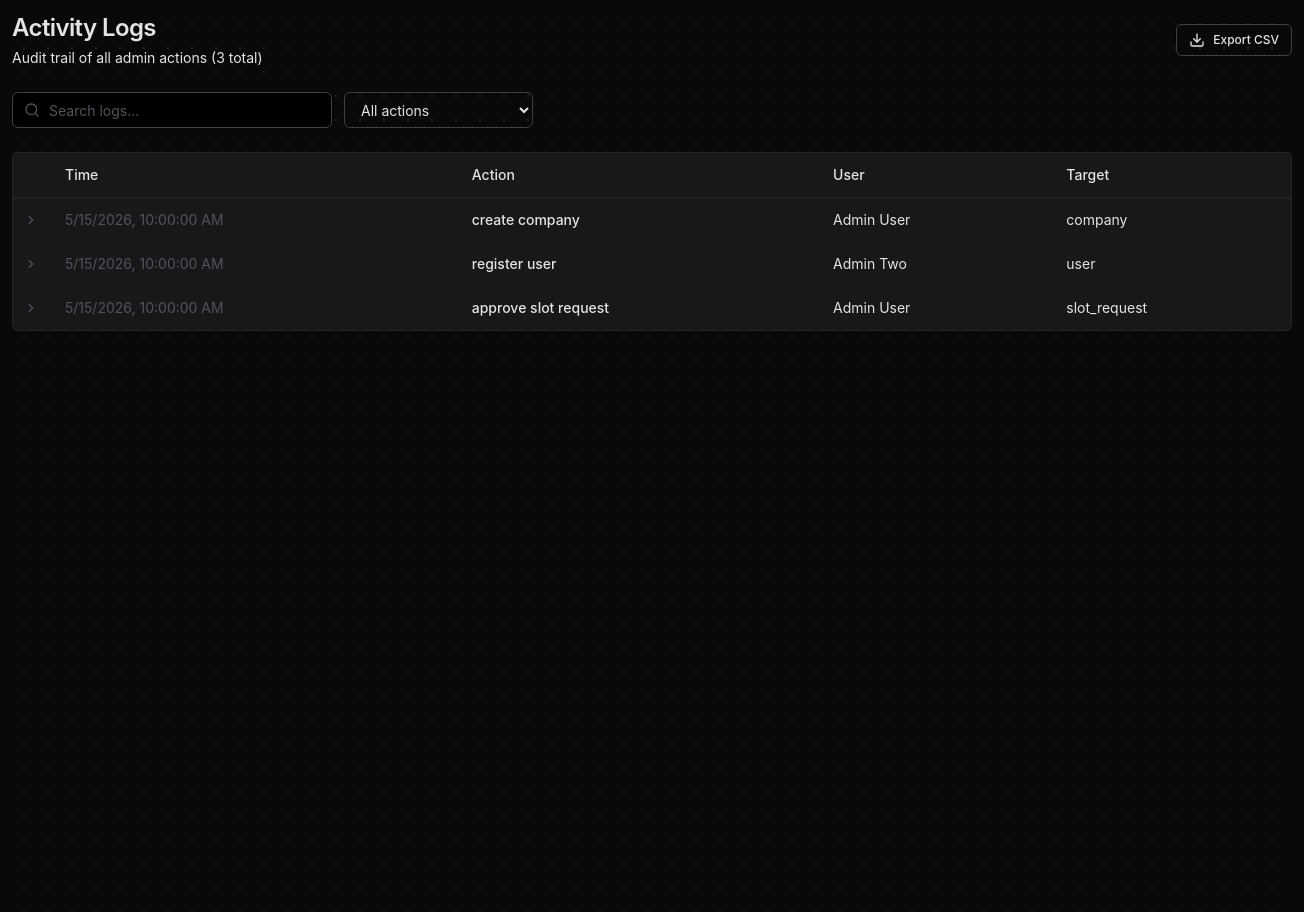
Test: AdminLogs › T-M3-3.D.2 - Detail expansion and CSV export › expand button toggles detail row for an entry
The image size is (1304, 912).
expect the text "create company" is shown: met, box [472,211,580,228]
Click the button named "expand log details" in the row of "create company". click: (31, 220)
box: [21,210,41,230]
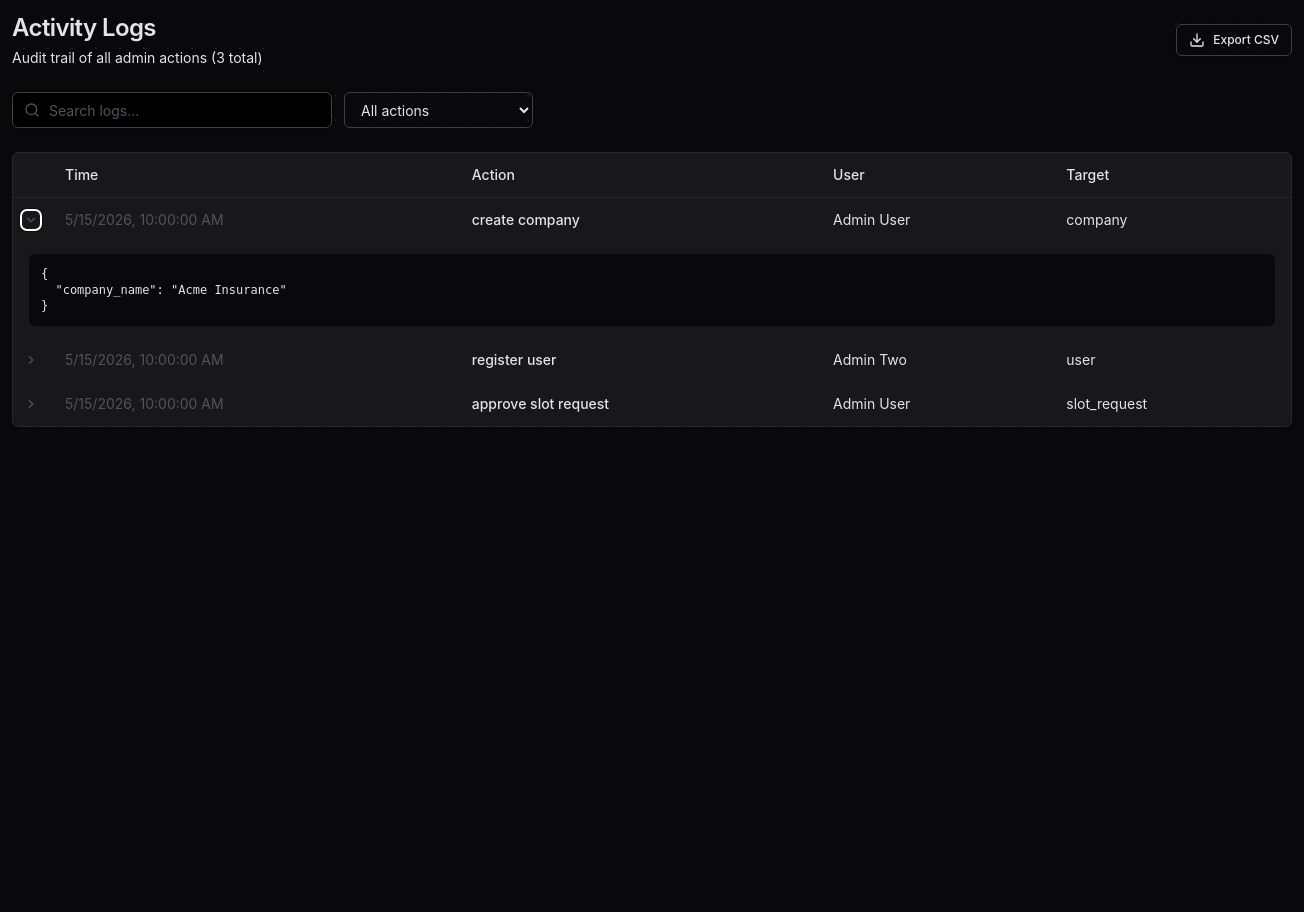
expect the text "{ \"company_name\": \"Acme Insurance\" }" is shown: met, box [29,254,1275,326]
